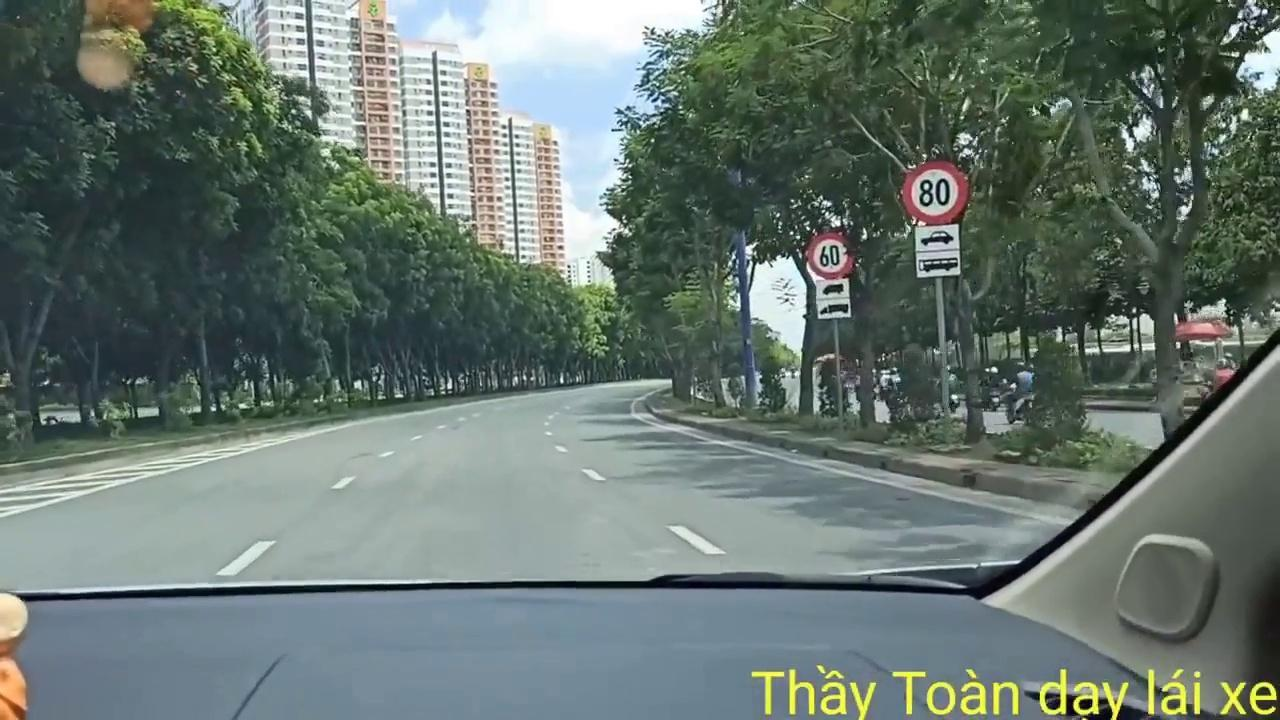Biển phụ: (913, 225, 961, 277), (816, 279, 851, 317)
GIơi hạn tốc độ 60Km/h: (806, 229, 856, 279)
Giới hạn tốc độ 80Km/h: (900, 160, 969, 224)
